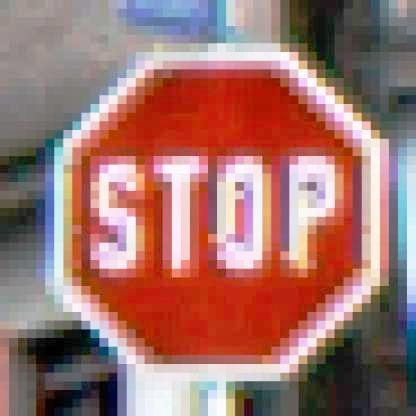Stop Sign: (47, 42, 392, 385)
